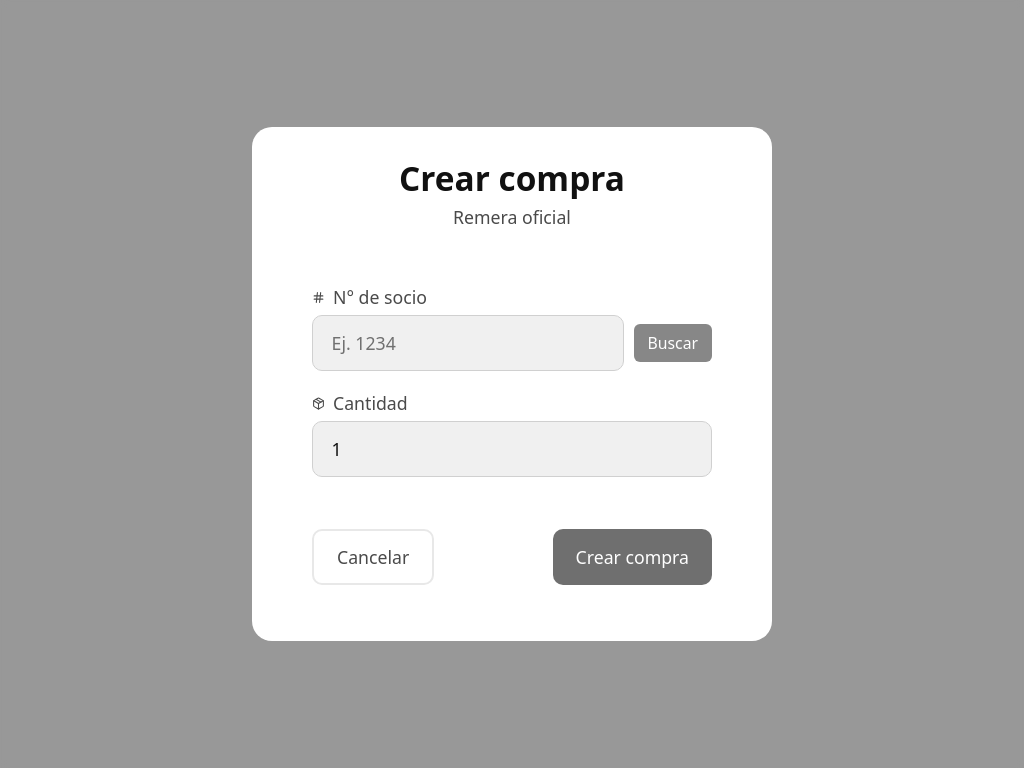
CrearCompraForm › muestra error si no se encuentra el socio
The width and height of the screenshot is (1024, 768).
Type "9999" into the field with placeholder "Ej. 1234" at coordinates (468, 343), box top-left (312, 315), bottom-right (624, 371)
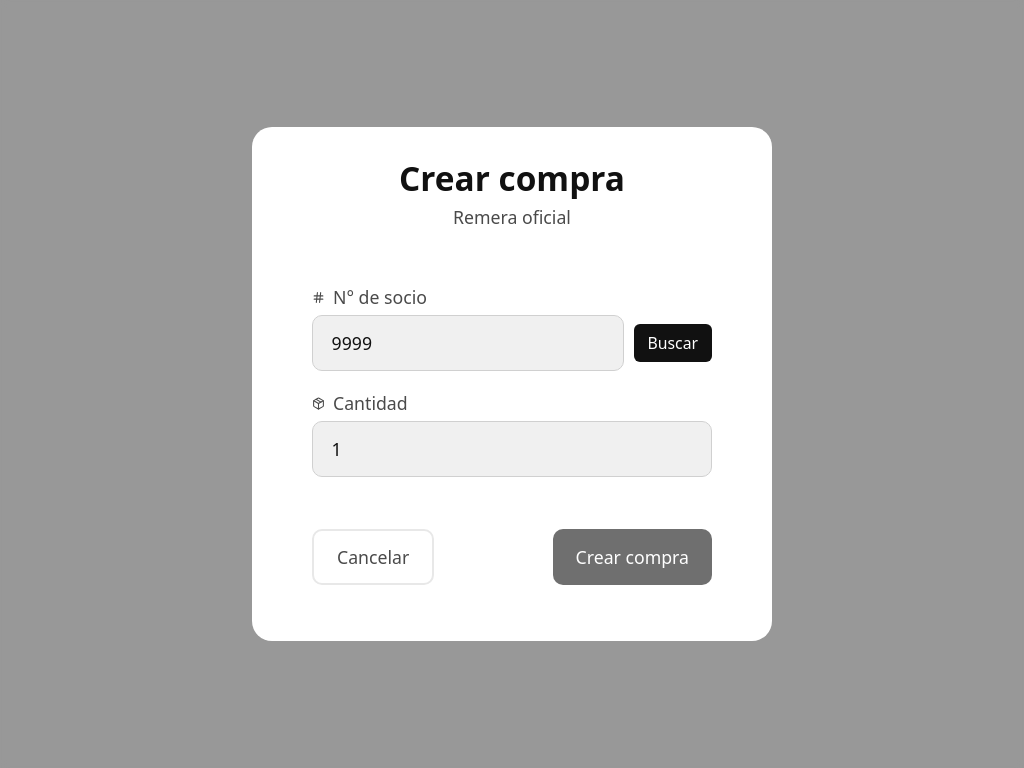
Click the button "Buscar" at coordinates (673, 343), box top-left (634, 324), bottom-right (712, 362)
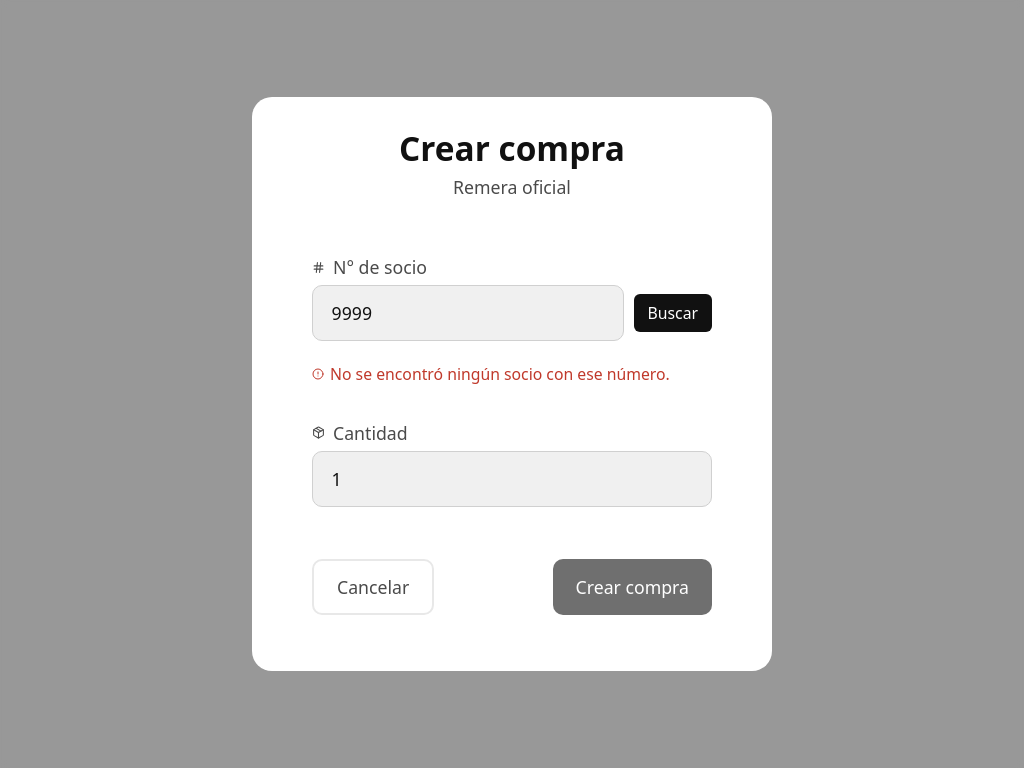
Now the text "No se encontró ningún socio con ese número." is shown, box top-left (312, 363), bottom-right (712, 385)
